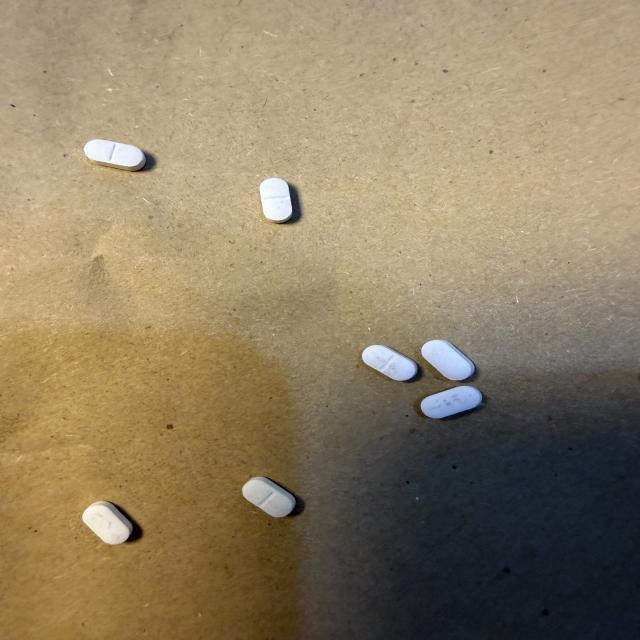pill: (242, 477, 295, 517), (83, 501, 132, 544), (422, 340, 474, 380), (421, 386, 482, 418), (85, 140, 146, 171), (362, 346, 417, 380), (260, 178, 292, 223)
